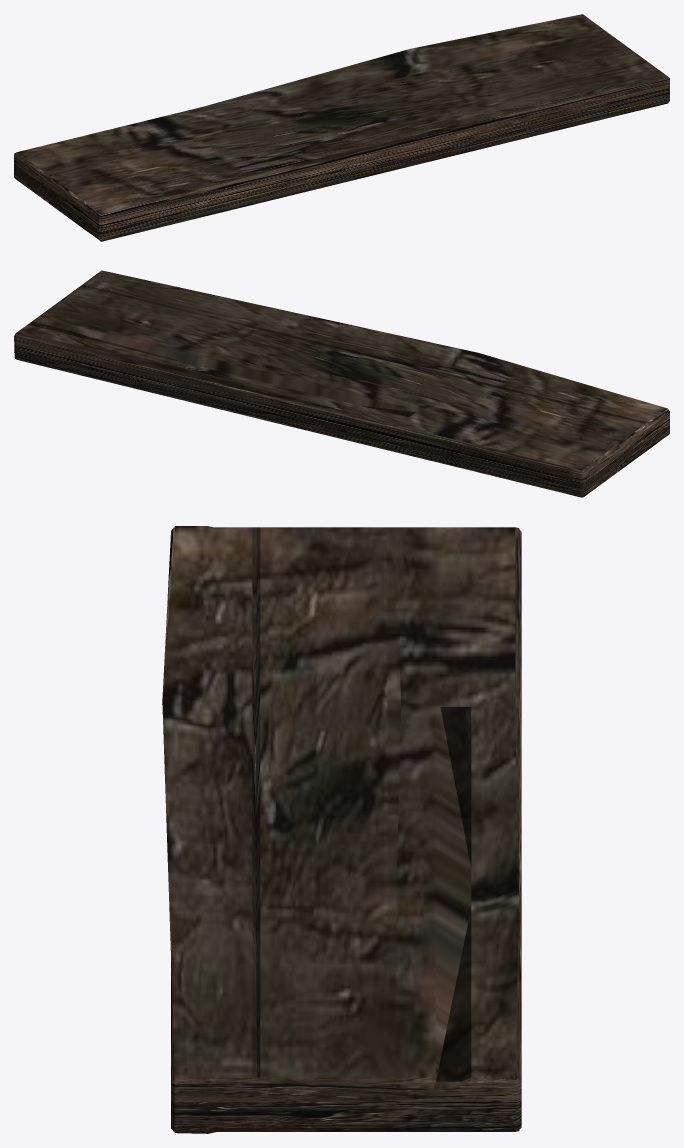
The model's file is plank3.glb.
3 renders of one model, top to bottom at view 1: azimuth 30°, elevation 25°; view 2: azimuth 150°, elevation 25°; view 3: azimuth 270°, elevation 25°, orthographic. The views are drawn at different scales.
Parts seen in each view (by area): view 1: Cube; view 2: Cube; view 3: Cube.
Boxes of the visible parts, x1,y1,x2,y2 form: Cube: (14, 14, 669, 241); Cube: (14, 270, 669, 497); Cube: (162, 526, 521, 1133).
Bounding box in the file's own units: 0.883 × 0.0614 × 0.24.
Materials: 1 (1 with a texture image).
